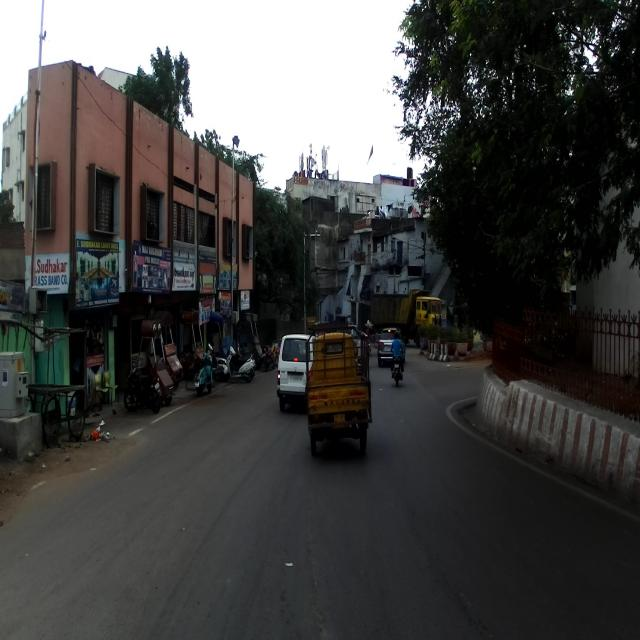autorickshaw: (302, 318, 372, 458)
motorcycle: (123, 355, 162, 414)
